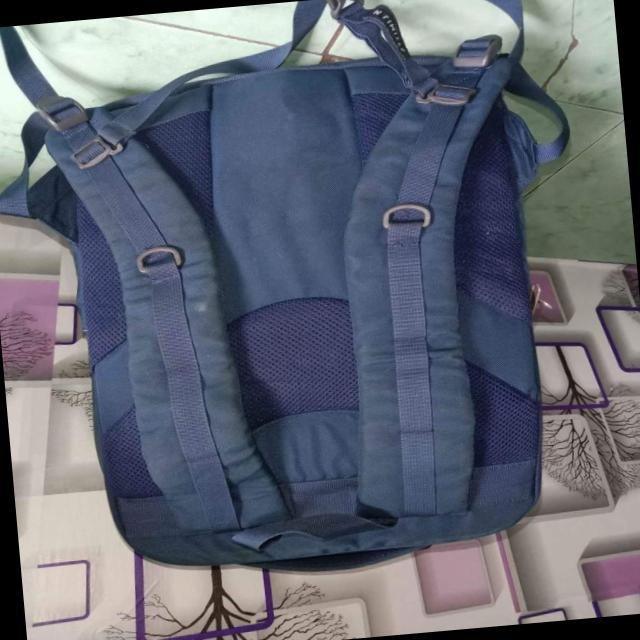bag: (70, 65, 542, 570)
